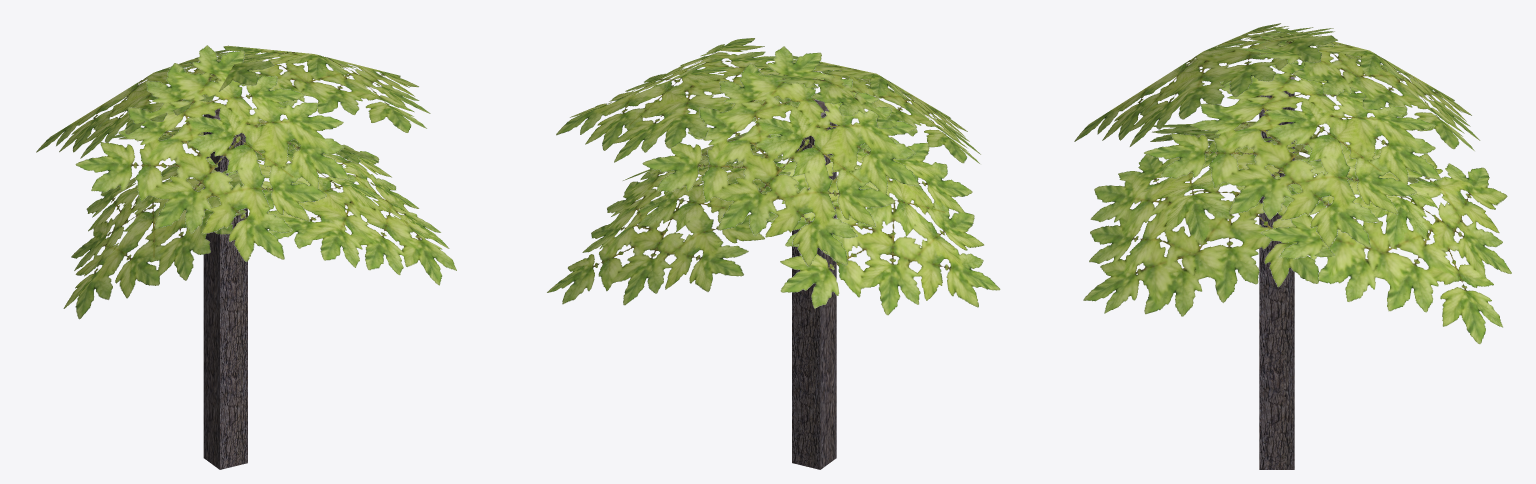
File: tree_1.DAE
3 renders of one model, left to right at view 1: azimuth 30°, elevation 25°; view 2: azimuth 150°, elevation 25°; view 3: azimuth 270°, elevation 25°, orthographic. The views are drawn at different scales.
Parts seen in each view (by area): view 1: Box001; view 2: Box001; view 3: Box001.
Part boxes in pixels (box(x1,y1,x2,y2)): Box001: box(36, 45, 456, 469); Box001: box(547, 38, 1000, 469); Box001: box(1074, 23, 1511, 469).
Size of the model in its own units: 62.46 by 54.42 by 55.78.
